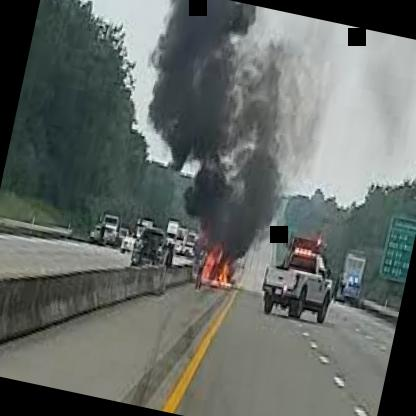fire: (144, 3, 281, 178), (188, 212, 255, 296)
